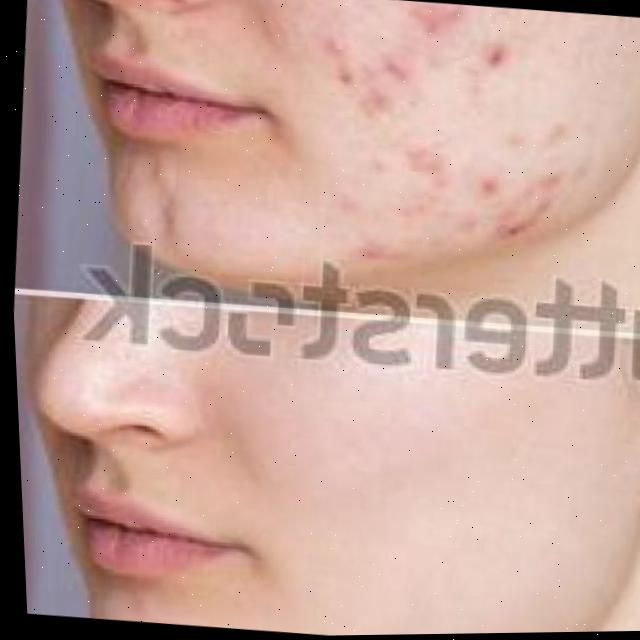Acne: (304, 0, 618, 280)
